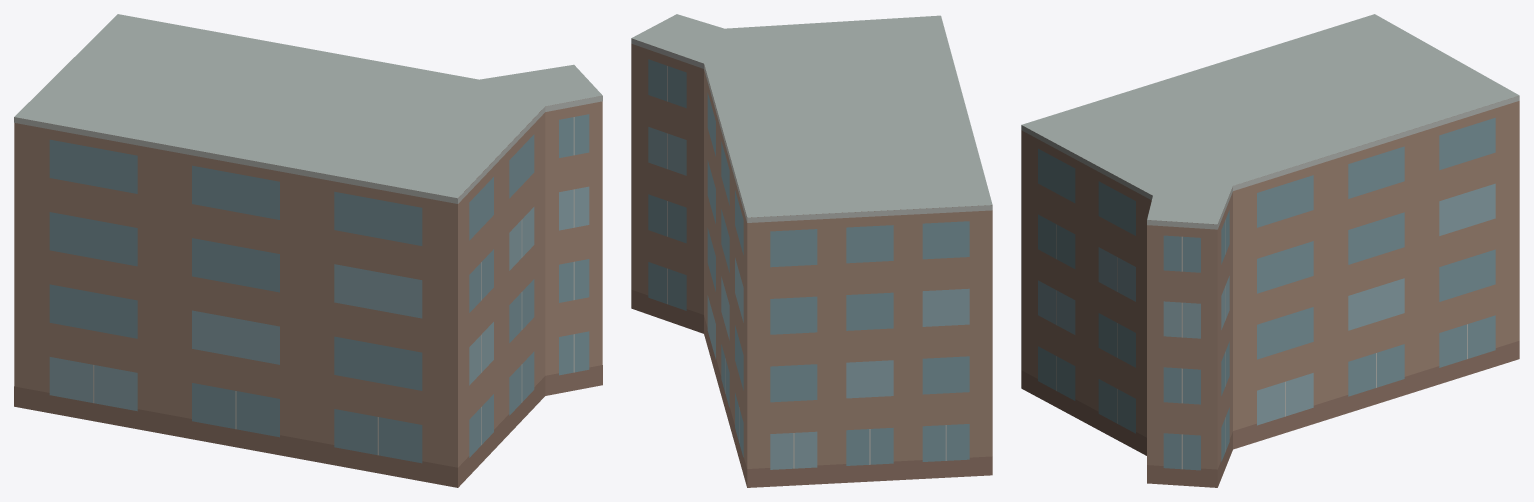
Rendered from survey-upis-32724422.glb.
3 renders of one model, left to right at view 1: azimuth 30°, elevation 25°; view 2: azimuth 150°, elevation 25°; view 3: azimuth 270°, elevation 25°, orthographic. The views are drawn at different scales.
Parts seen in each view (by area): view 1: survey-upis-32724422.tmp; view 2: survey-upis-32724422.tmp; view 3: survey-upis-32724422.tmp.
Boxes of the visible parts, x1,y1,x2,y2 form: survey-upis-32724422.tmp: (14,14,602,487); survey-upis-32724422.tmp: (631,14,992,487); survey-upis-32724422.tmp: (1021,14,1519,487).
Size of the model in its own units: 20.89 by 12.2 by 20.92.
